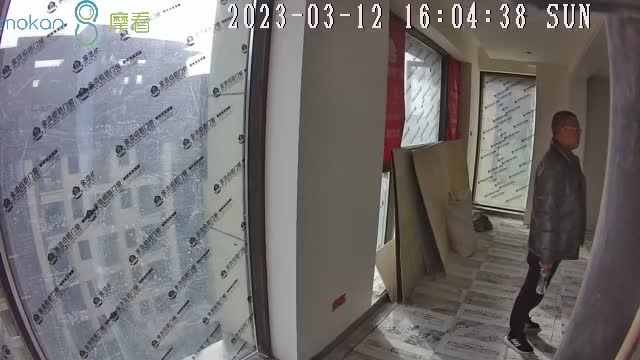people: (502, 110, 586, 356)
window: (1, 1, 262, 360), (387, 24, 447, 148), (477, 71, 530, 210)
